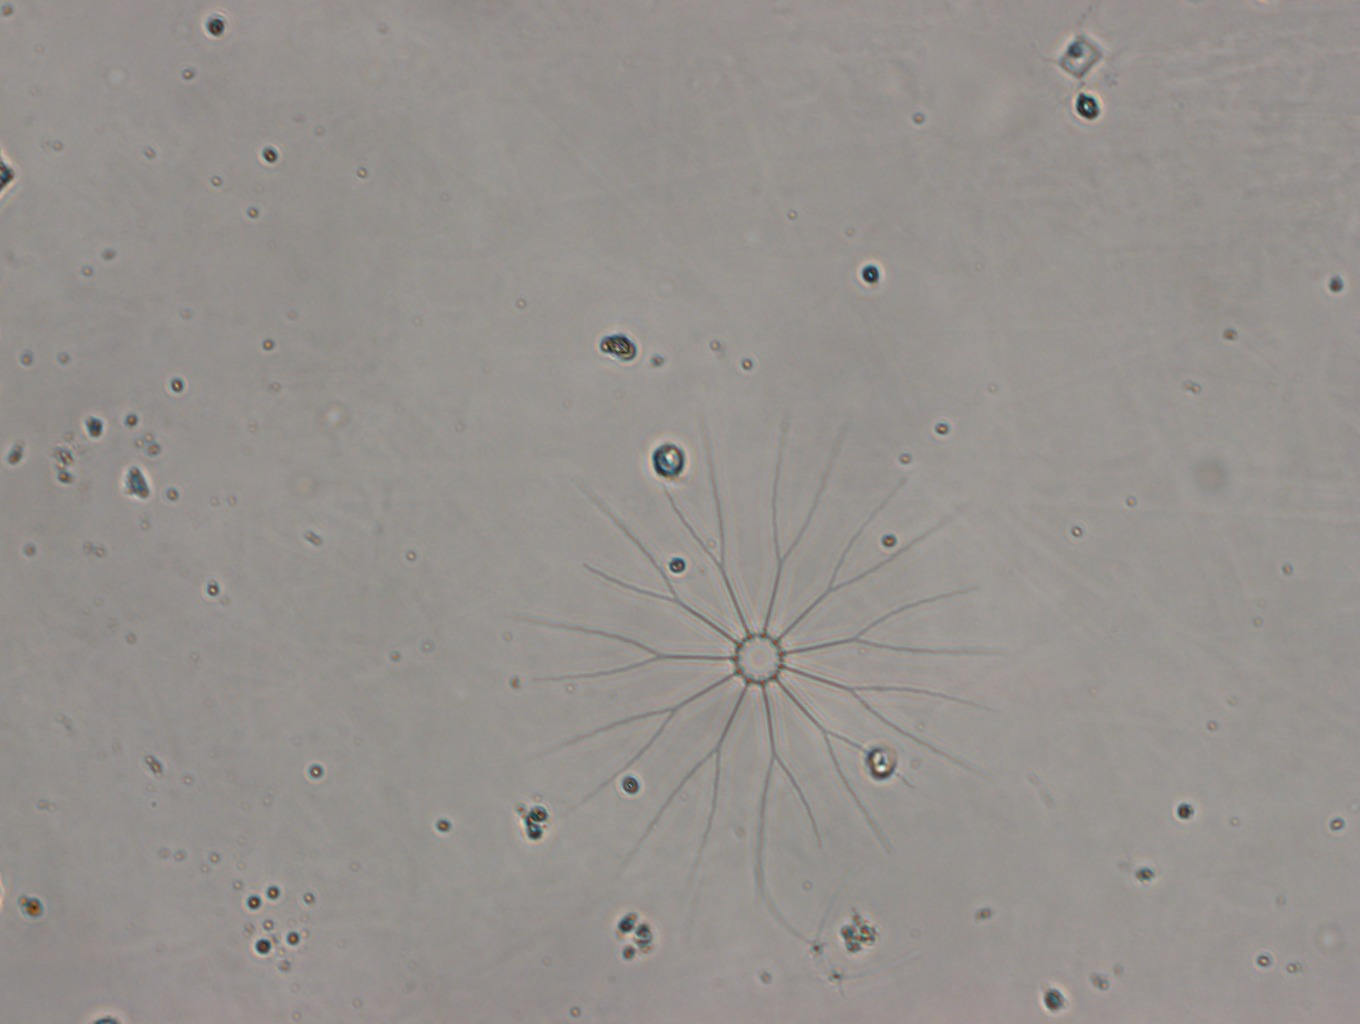bacteriastrum: (514, 419, 1017, 909)
